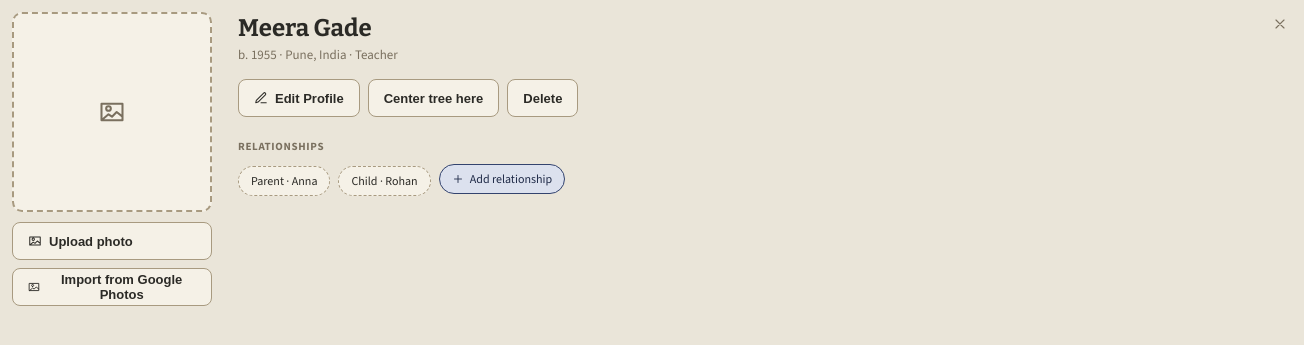
Test: shows an error message if fetching the Google photo fails
Click the button "Import from Google Photos" at (112, 287), box x1=12 y1=268 x2=212 y2=306
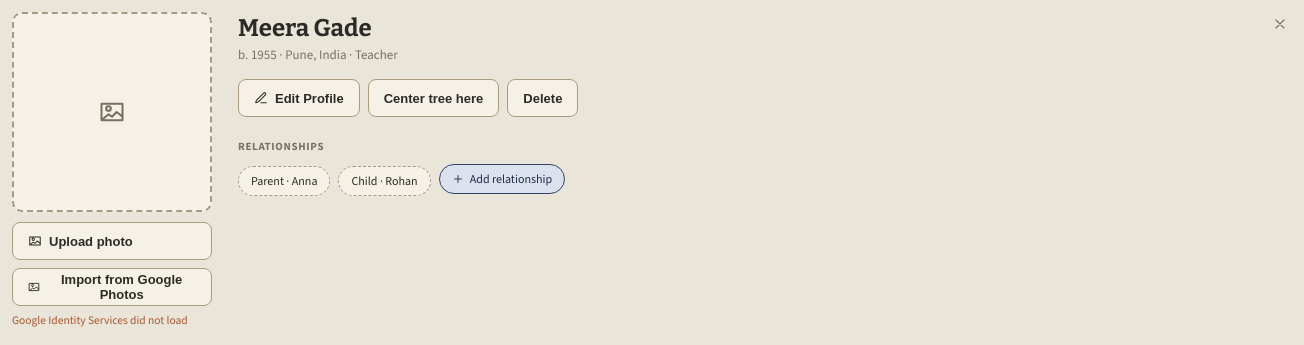
Expected: the text "Google Identity Services did not load" is shown, x1=12 y1=312 x2=212 y2=328
